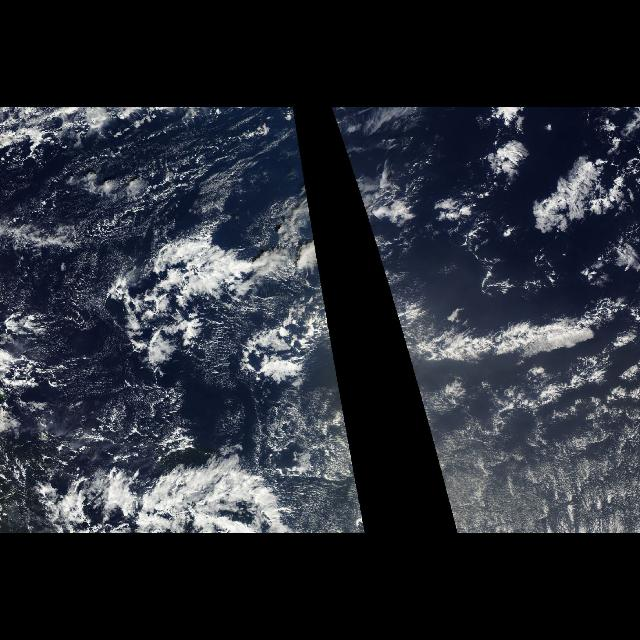Fish: (371, 229, 634, 391), (108, 229, 340, 391)
Flower: (428, 108, 630, 252)
Gravel: (8, 135, 182, 528)
Sugar: (411, 358, 639, 534), (12, 172, 156, 440), (282, 376, 368, 532), (168, 132, 280, 220)
